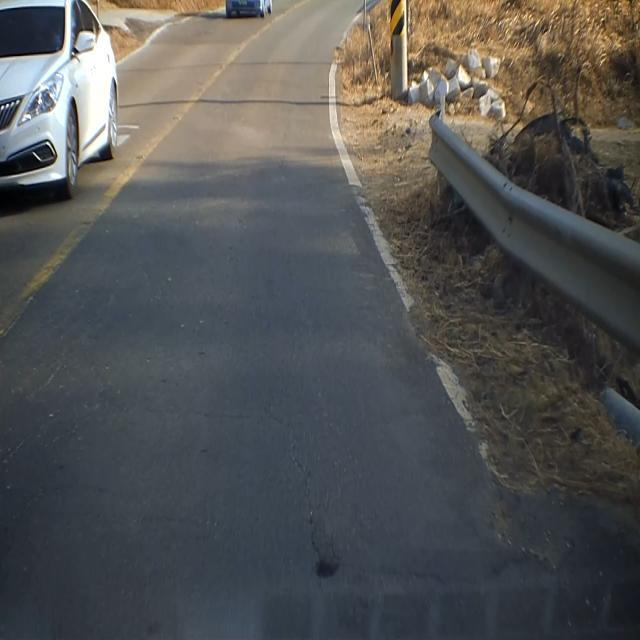Buraco: (309, 555, 346, 581)
